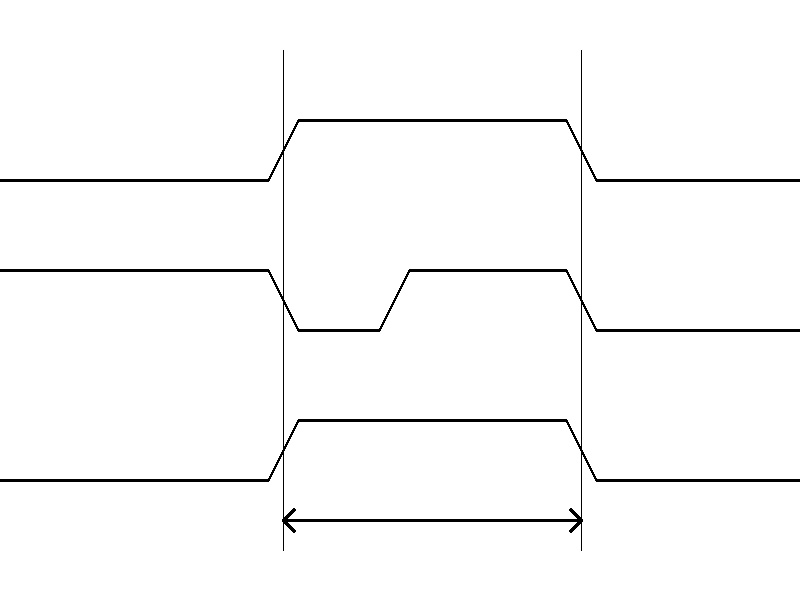double_arrow: (283, 505, 581, 535)
